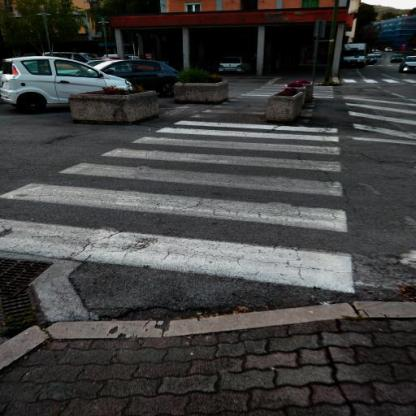crosswalk: (48, 147, 357, 202)
